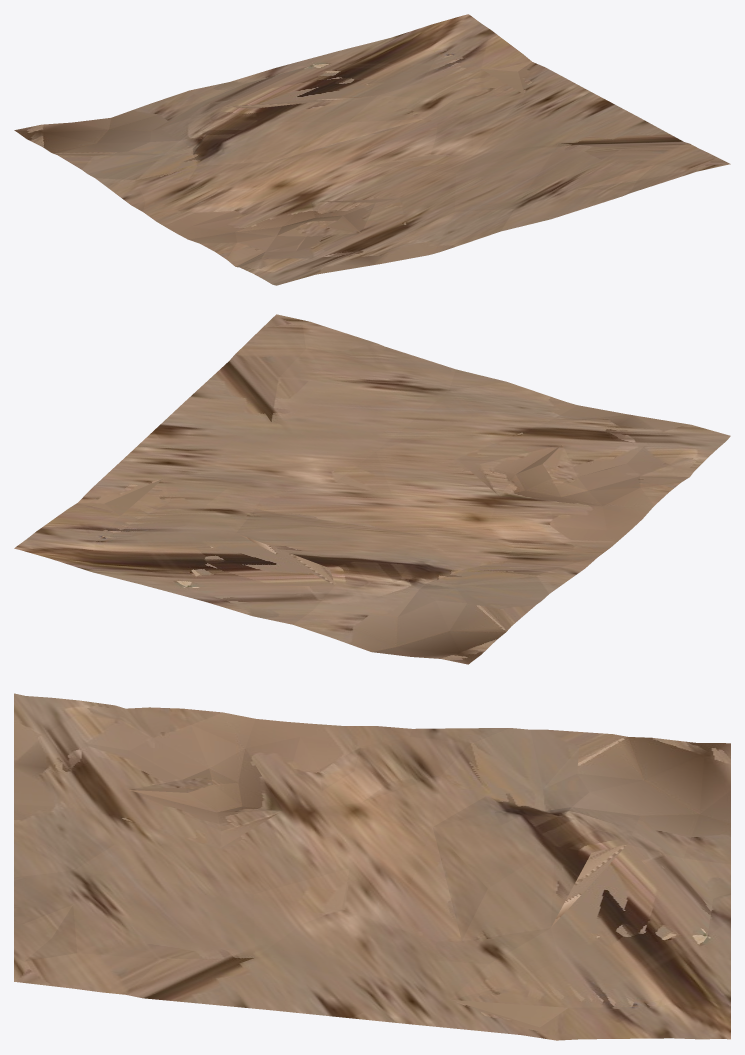
The picture shows the model from 3 angles, top to bottom: view 1: azimuth 30°, elevation 25°; view 2: azimuth 150°, elevation 25°; view 3: azimuth 270°, elevation 25°; orthographic projection. The views are drawn at different scales.
Bounding box in the file's own units: 2.09 × 0.2606 × 2.09.
Materials: 2 (2 with a texture image).
